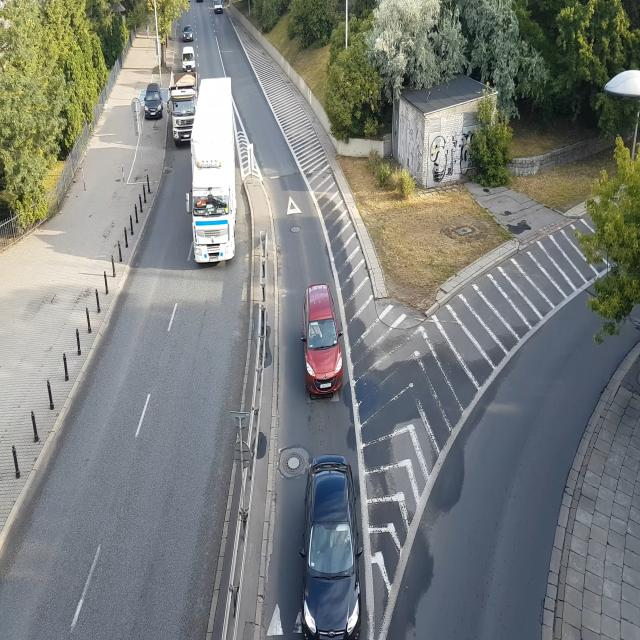car: (304, 438, 361, 640), (304, 278, 344, 396), (143, 89, 166, 119), (182, 44, 198, 74), (183, 28, 195, 40), (214, 2, 226, 14)
truck: (190, 85, 238, 263), (170, 94, 200, 148)
